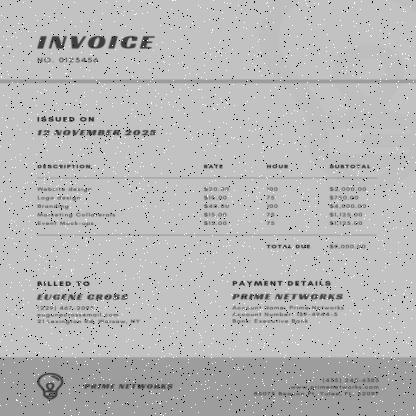Paragraph: (228, 278, 348, 326), (33, 278, 144, 326), (32, 34, 160, 65), (32, 113, 160, 139), (252, 376, 380, 398), (262, 242, 370, 250), (82, 383, 174, 390)
Table: (31, 160, 376, 235)
